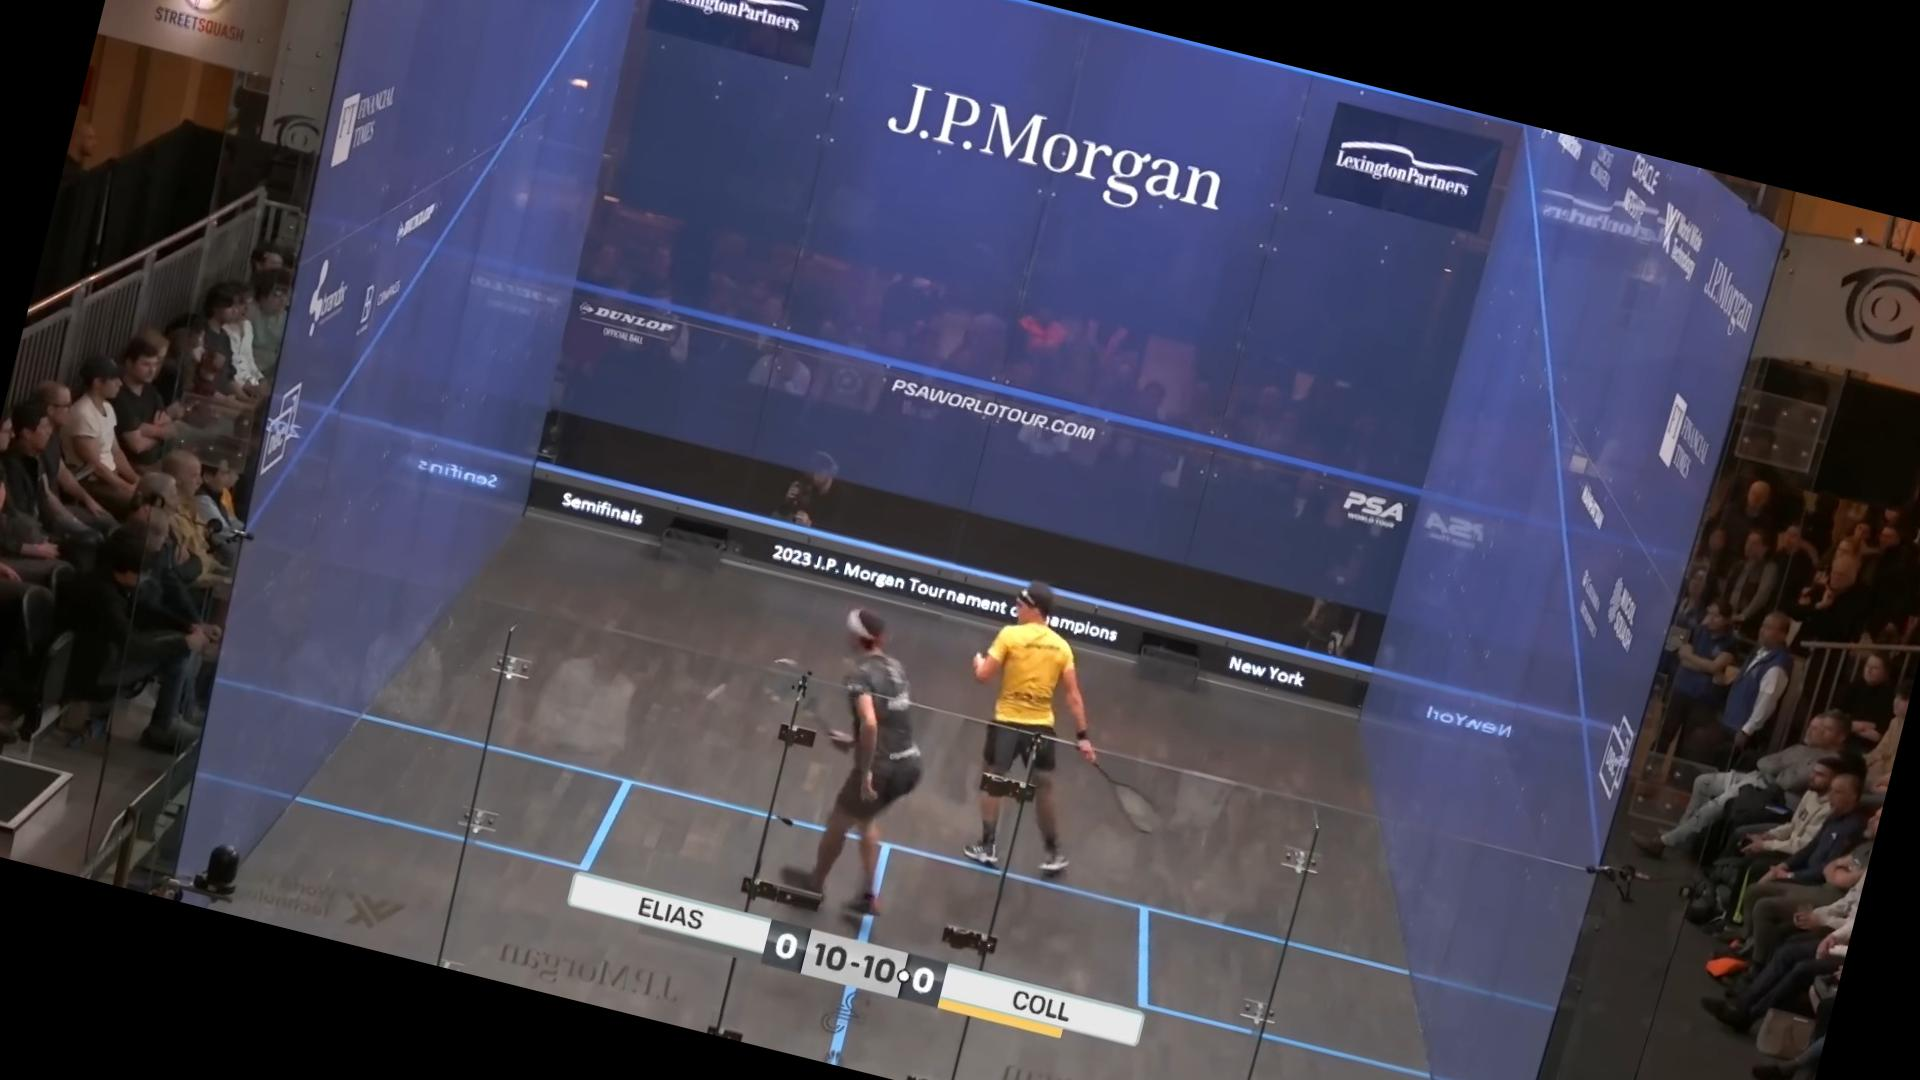Racket: (1073, 753, 1189, 848), (744, 645, 853, 731)
